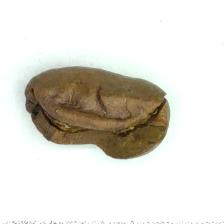NG: (34, 79, 161, 160)
